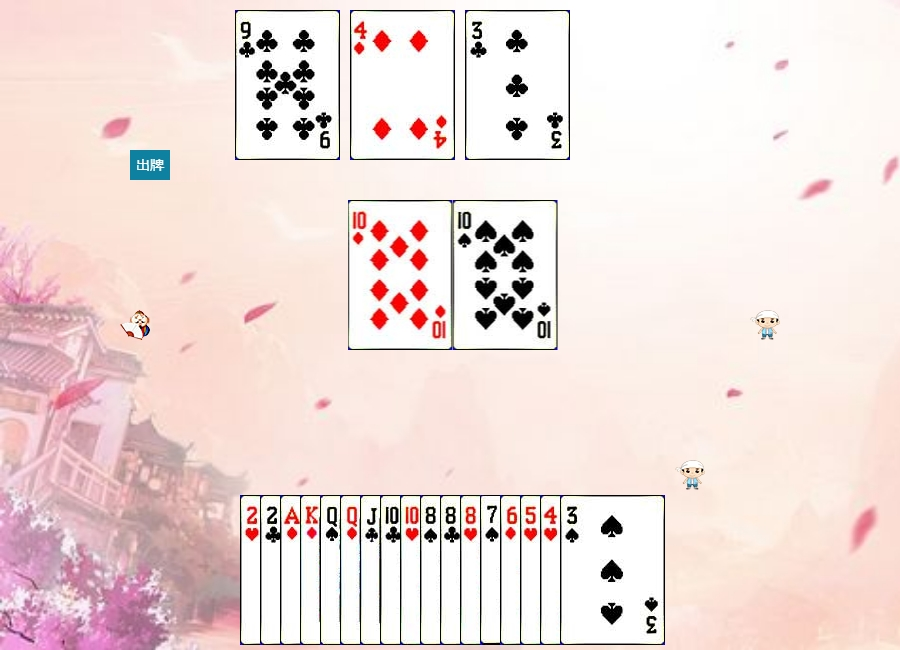10~1: (348, 200, 453, 350)
10~2: (380, 495, 485, 645)
10~3: (400, 495, 505, 645)
10~4: (453, 200, 558, 350)
11~2: (360, 495, 465, 645)
12~1: (340, 495, 445, 645)
12~4: (320, 495, 425, 645)
13~1: (300, 495, 405, 645)
14~1: (280, 495, 385, 645)
15~2: (260, 495, 365, 645)
15~3: (240, 495, 345, 645)
3~2: (465, 10, 570, 160)
3~4: (560, 495, 665, 645)
4~1: (350, 10, 455, 160)
4~3: (540, 495, 645, 645)
5~3: (520, 495, 625, 645)
6~1: (500, 495, 605, 645)
7~4: (480, 495, 585, 645)
8~2: (440, 495, 545, 645)
8~3: (460, 495, 565, 645)
8~4: (420, 495, 525, 645)
9~2: (235, 10, 340, 160)
